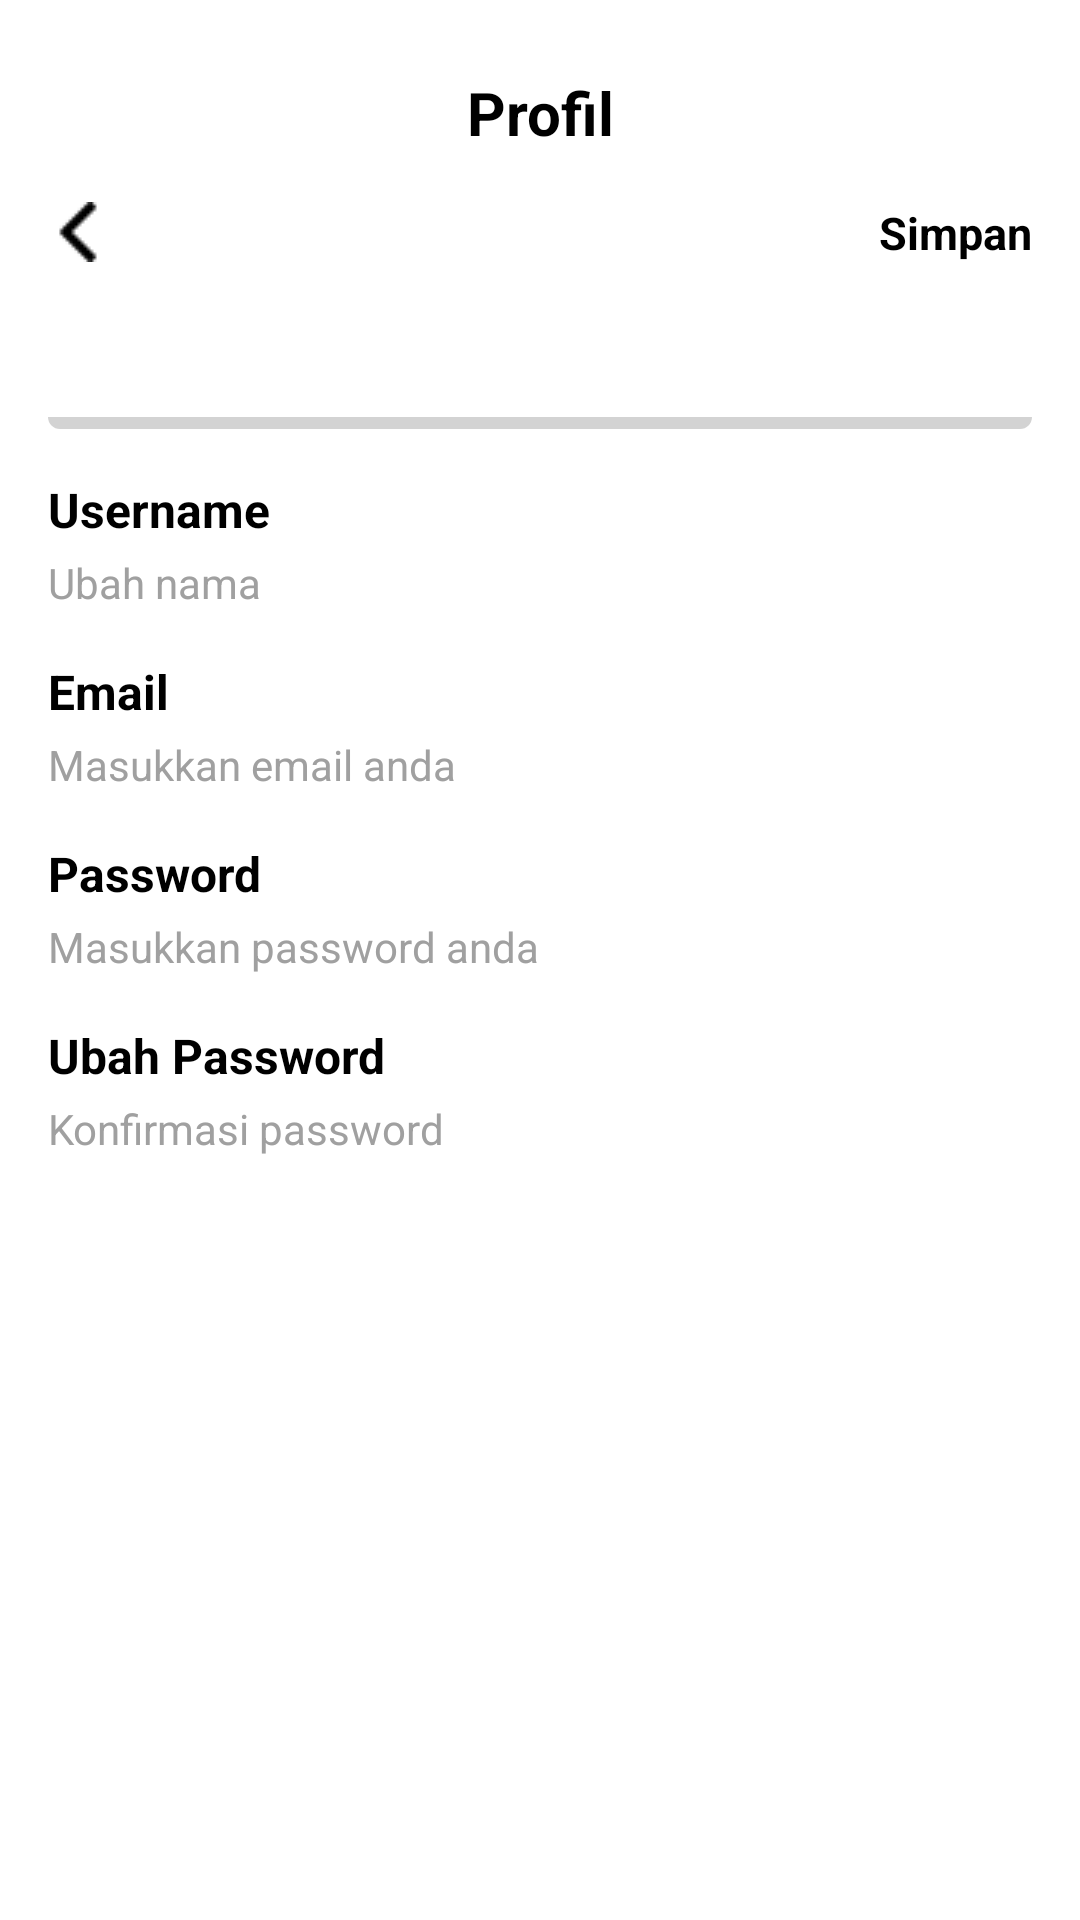

Point at icon controls on the screen. Image size 1080*1920, points as point (x, y).
Back: point (78, 232)
